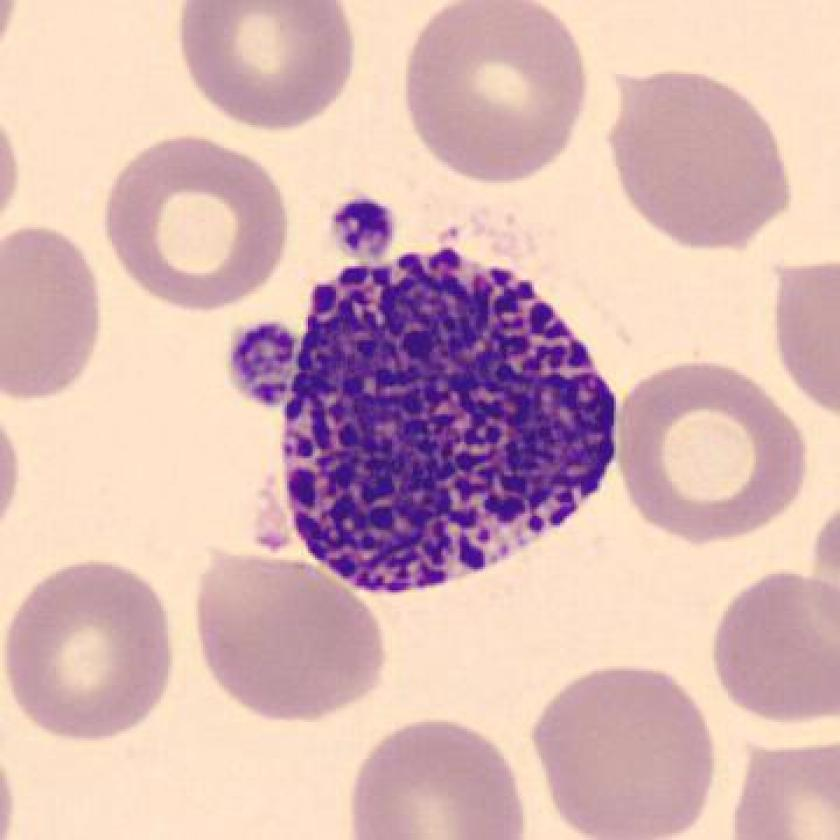basophil: (274, 246, 629, 591)
